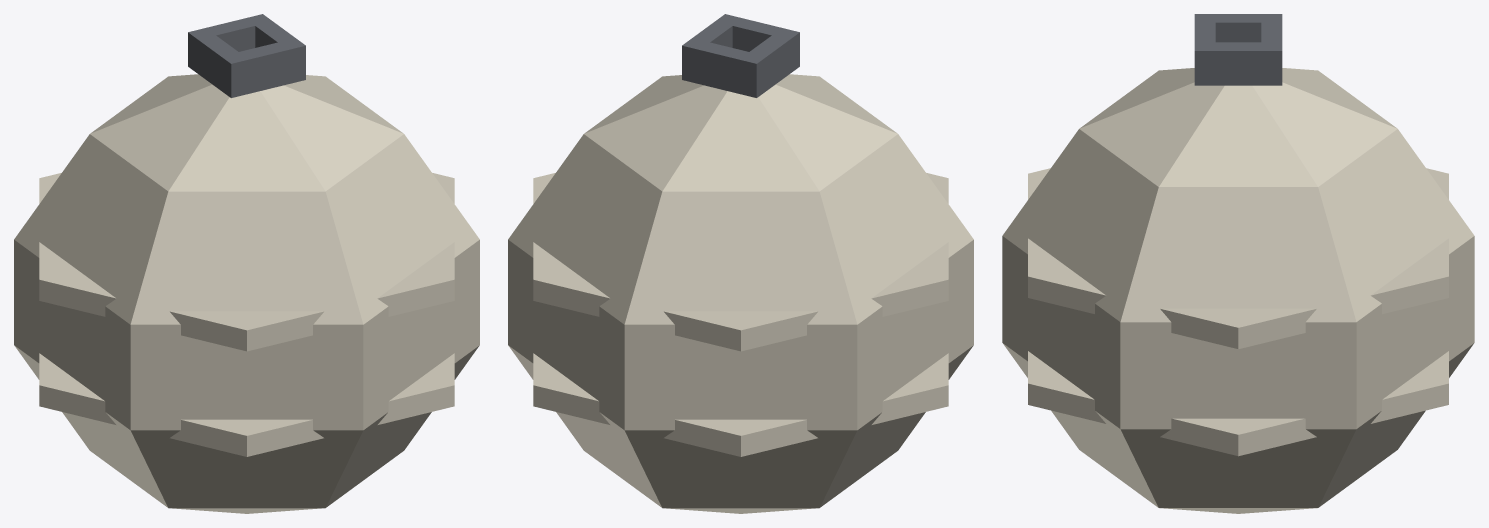
File: SN_Fender_Ball.glb
3 renders of one model, left to right at view 1: azimuth 30°, elevation 25°; view 2: azimuth 150°, elevation 25°; view 3: azimuth 270°, elevation 25°, orthographic.
Visible parts, largest first — view 1: SN_Fender_Ball; view 2: SN_Fender_Ball; view 3: SN_Fender_Ball.
Part boxes in pixels (x1=…): SN_Fender_Ball: x1=14, y1=14, x2=479, y2=513; SN_Fender_Ball: x1=508, y1=14, x2=973, y2=513; SN_Fender_Ball: x1=1002, y1=14, x2=1474, y2=513.
Bounding box in the file's own units: 0.824 × 0.9 × 0.8.
